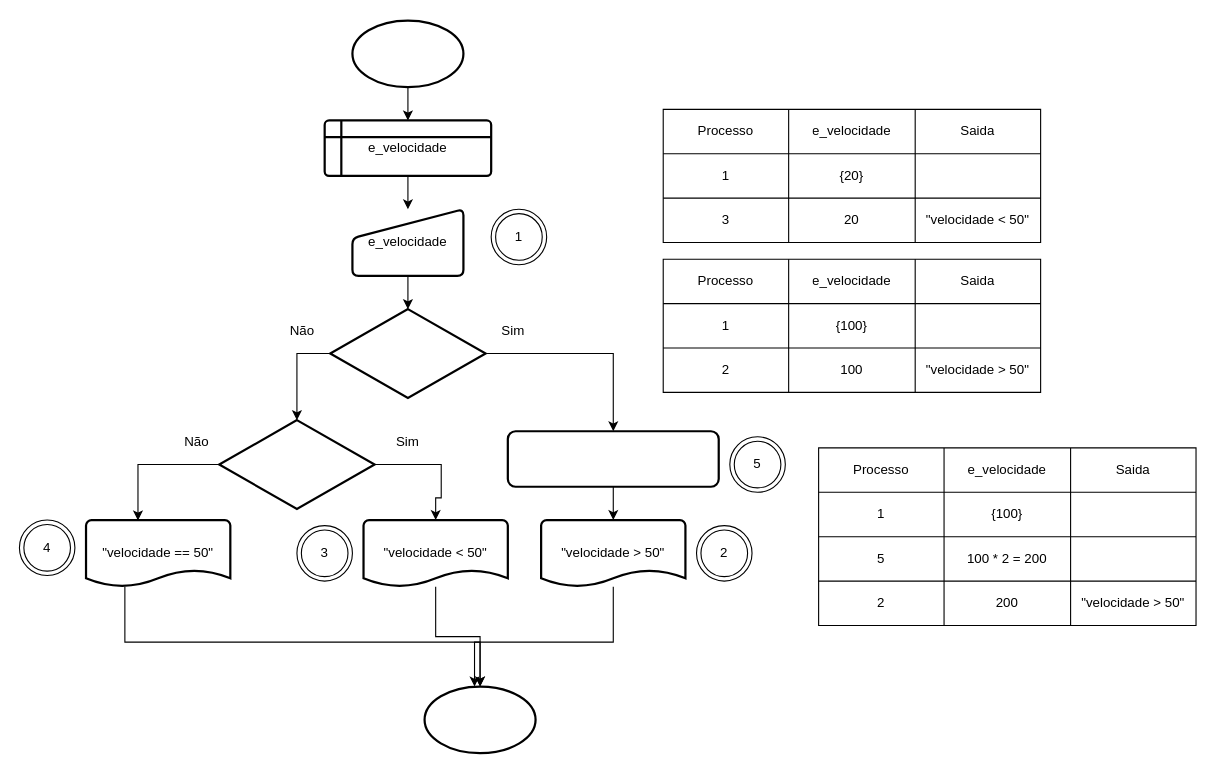
The diagram is 1215 pixels wide and 773 high, and some of its shapes have lost their labels. The shapes that lost their labels are listed below. From the top down, each one's centre as x and y in pixels, then its label:
At point 407,53: "Start".
At point 407,352: "e_velocidade > 50".
At point 296,463: "e_velocidade < 50".
At point 612,458: "e_velocidade = e_velocidade *2".
At point 479,719: "End".
